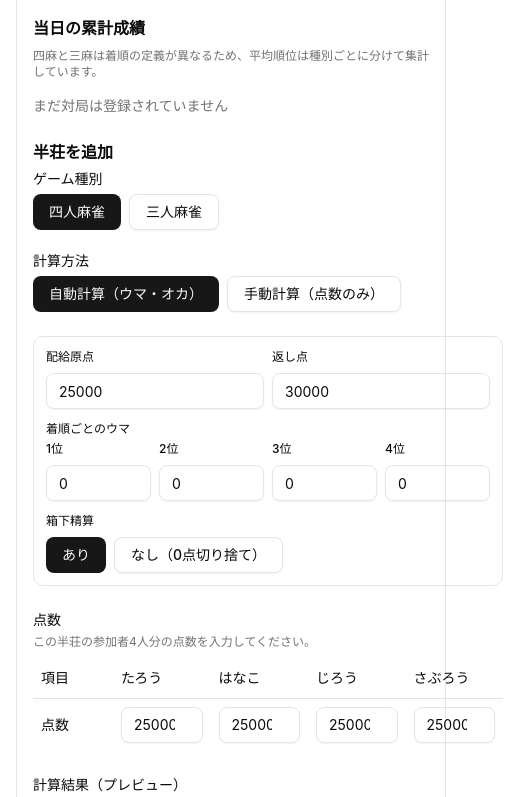
Scenario: HanchanEntryForm（新規半荘登録） › 保存済み設定が無い場合、ゲーム種別を変更すると対象種別のデフォルト配給原点・返し点に更新する（Issue #64）
Click the button "三人麻雀": x=174, y=212 x1=129 y1=194 x2=219 y2=230
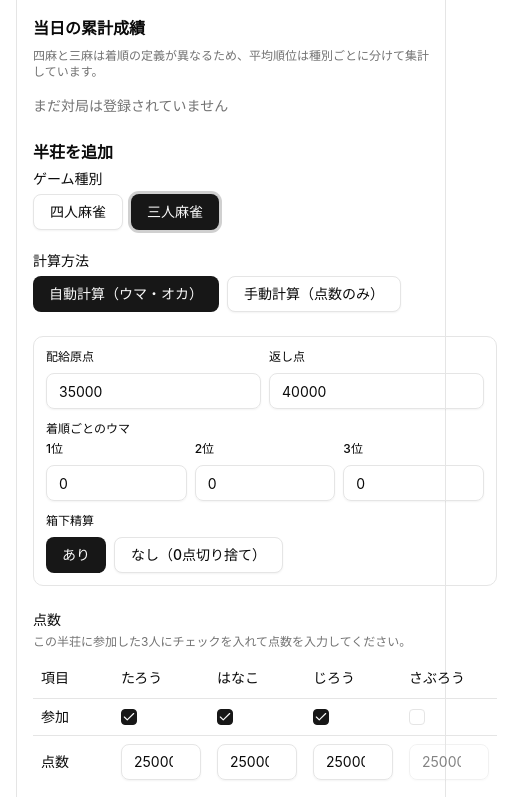
expect the number field named "startingPoints" holds "35000": met, box x1=46 y1=373 x2=261 y2=409
expect the number field named "returnPoints" holds "40000": met, box x1=269 y1=373 x2=484 y2=409
